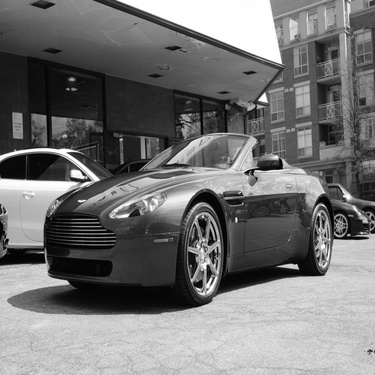car: (36, 127, 338, 313), (1, 150, 123, 270), (303, 186, 374, 235), (99, 143, 158, 186), (312, 208, 373, 240), (1, 196, 9, 265)
